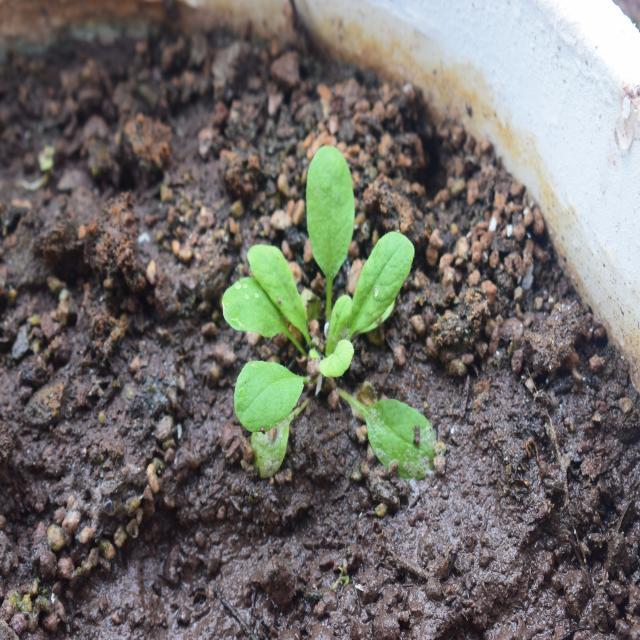Shepherd_Purse: (224, 158, 451, 484)
